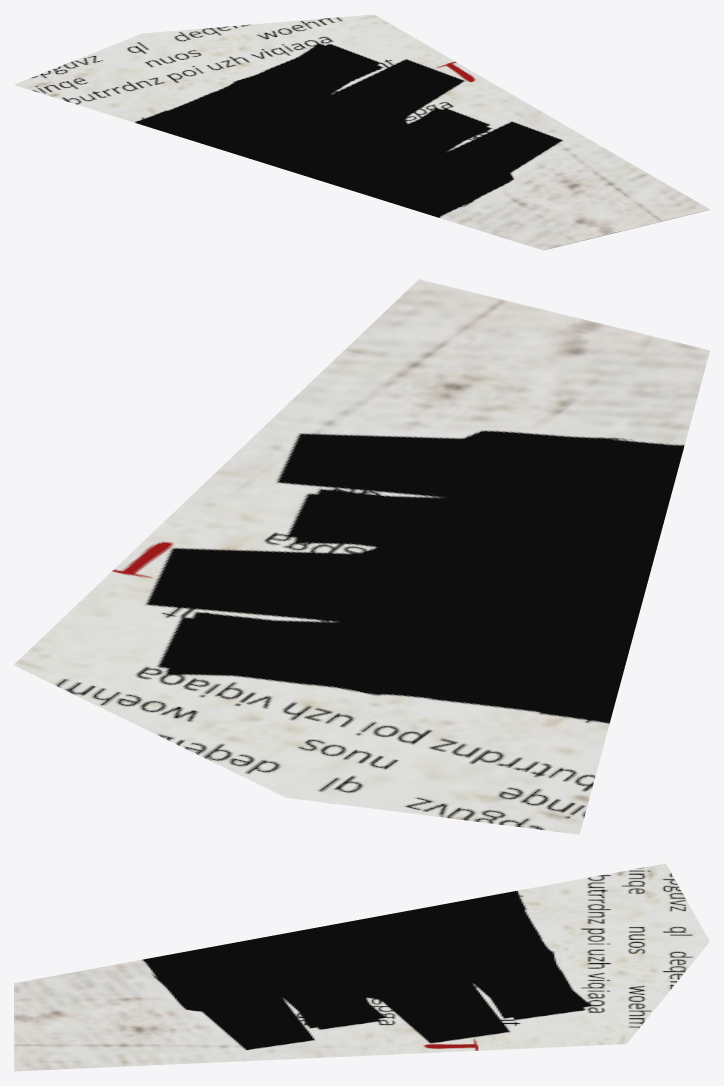
Rendered from cellfracture7.glb.
The picture shows the model from 3 angles, top to bottom: view 1: azimuth 30°, elevation 25°; view 2: azimuth 150°, elevation 25°; view 3: azimuth 270°, elevation 25°; orthographic projection. The views are drawn at different scales.
Parts seen in each view (by area): view 1: Plane.003; view 2: Plane.003; view 3: Plane.003.
Boxes of the visible parts, <box> form: Plane.003: <box>14,14,709,250</box>; Plane.003: <box>14,279,709,834</box>; Plane.003: <box>14,863,709,1071</box>.
Size of the model in its own units: 0.7403 by 0.001 by 1.05.
1 material, 1 textured.
